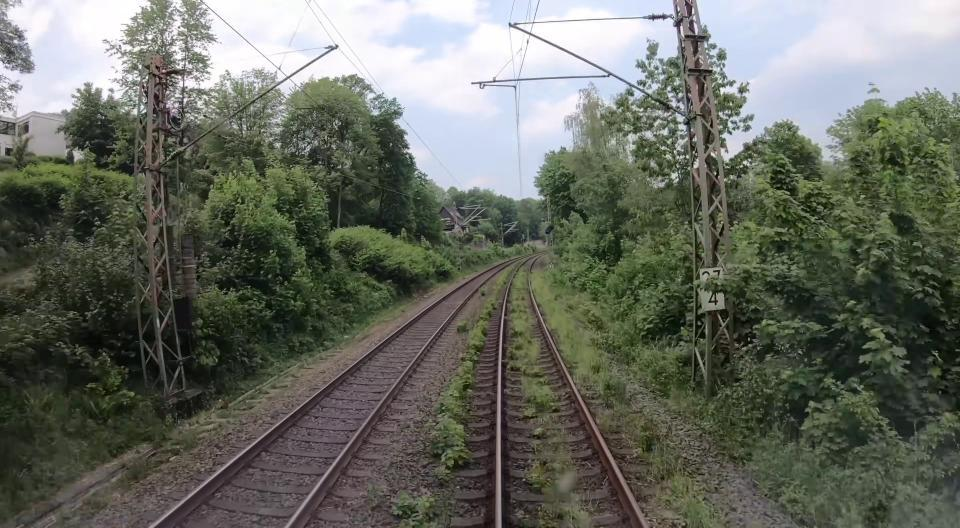Plant: (530, 256, 631, 413), (620, 414, 722, 528), (430, 300, 494, 471), (508, 264, 553, 419), (526, 499, 592, 528), (393, 492, 443, 528), (524, 461, 569, 497), (431, 463, 456, 488), (364, 484, 386, 511), (497, 264, 516, 289), (595, 409, 610, 434), (456, 321, 468, 333), (479, 285, 486, 296)
